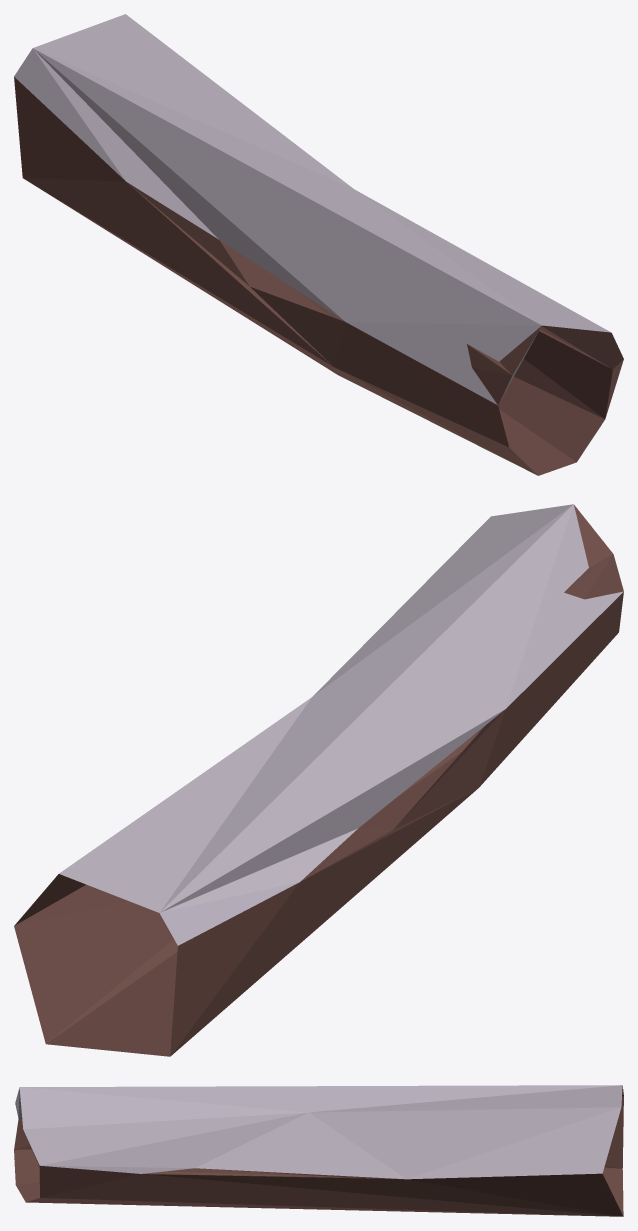
Rendered from WoodLog_Snow.lod2.glb.
The picture shows the model from 3 angles, top to bottom: view 1: azimuth 30°, elevation 25°; view 2: azimuth 150°, elevation 25°; view 3: azimuth 270°, elevation 25°; orthographic projection. The views are drawn at different scales.
Visible parts, largest first — view 1: WoodLog_Snow; view 2: WoodLog_Snow; view 3: WoodLog_Snow.
Part boxes in pixels (x1=…): WoodLog_Snow: x1=14, y1=14, x2=623, y2=475; WoodLog_Snow: x1=14, y1=504, x2=623, y2=1056; WoodLog_Snow: x1=14, y1=1085, x2=623, y2=1216.
Size of the model in its own units: 0.584 by 0.5314 by 2.49.
